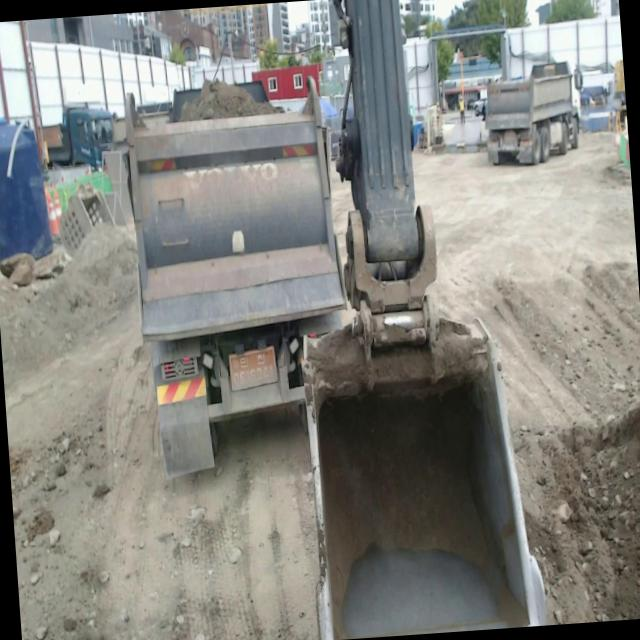red-sand: (520, 401, 640, 625)
white-sand: (0, 229, 318, 640), (413, 133, 640, 437)
